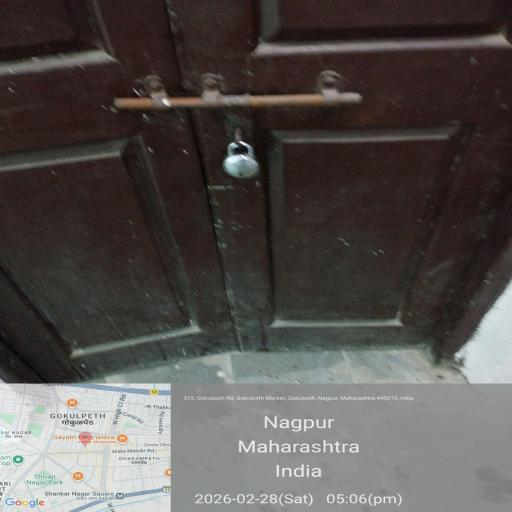clean_floor: (33, 41, 458, 446)
